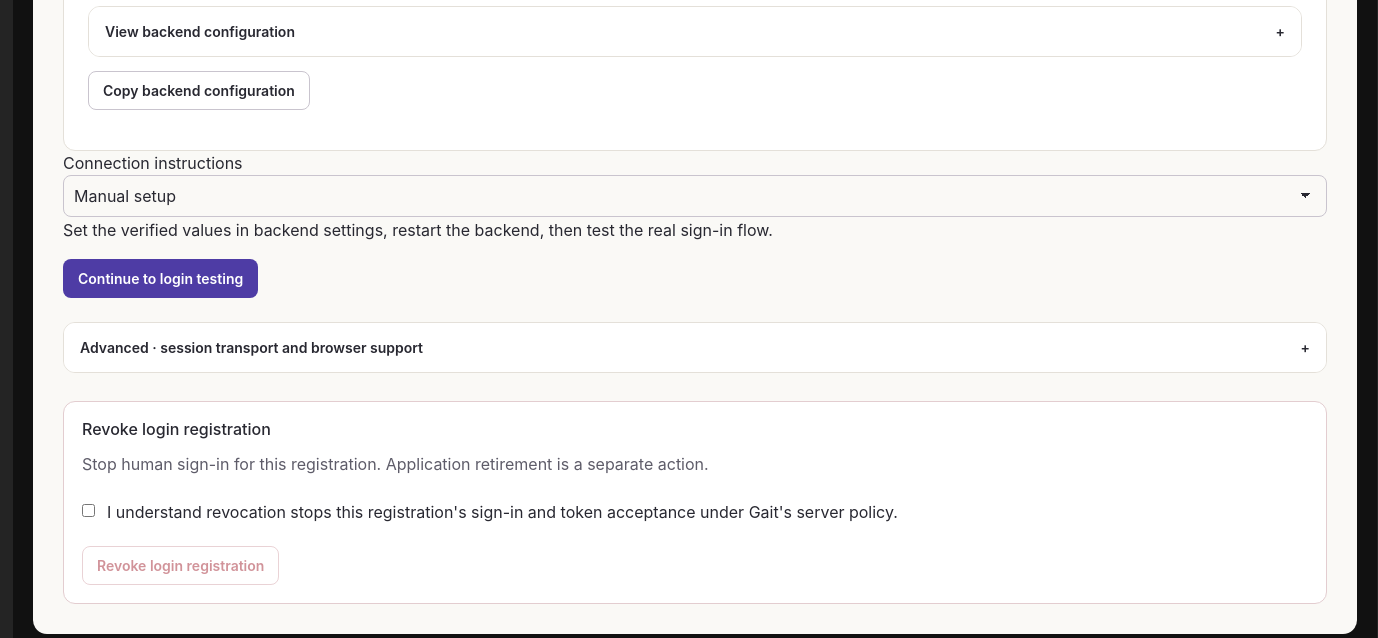
Test: transport denial preserves saved authority and explains fresh MFA
(page scrolled)
Click the button "Advanced · session transport and browser support".
click(252, 348)  # box [64,323,1326,372]
(page scrolled)
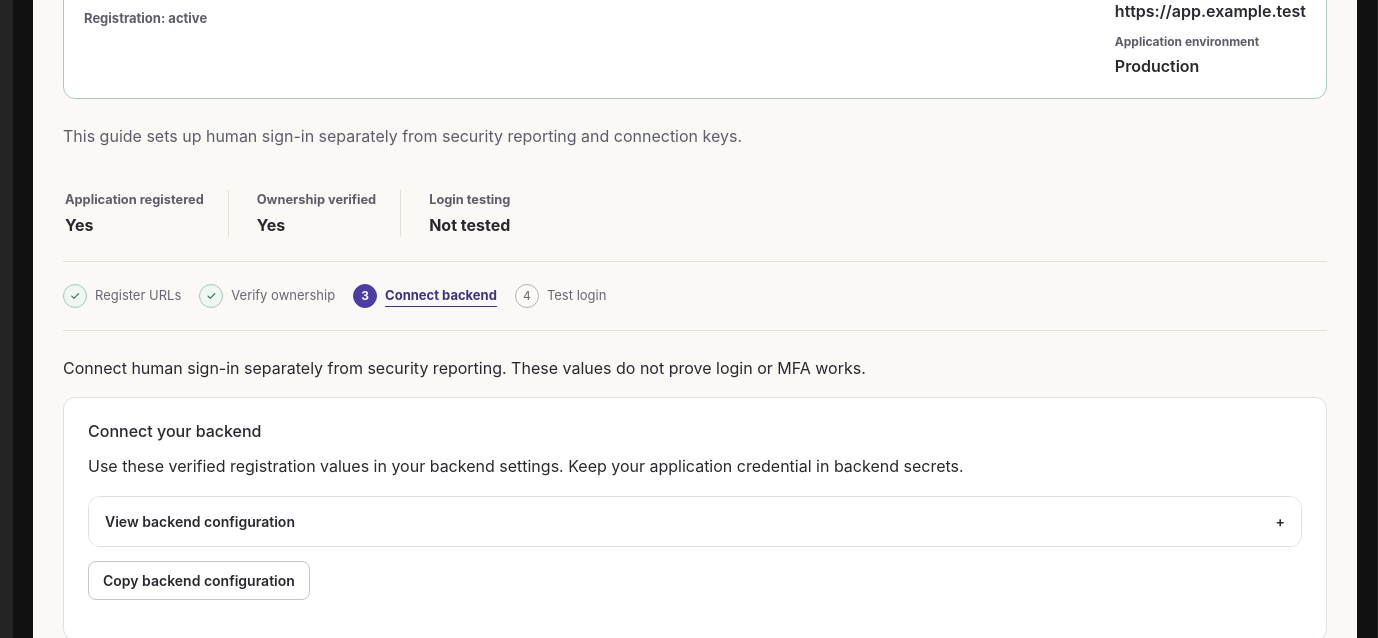
Click the button with aria-label "1. Register URLs".
click(122, 296)  # box [63,276,181,316]
(page scrolled)
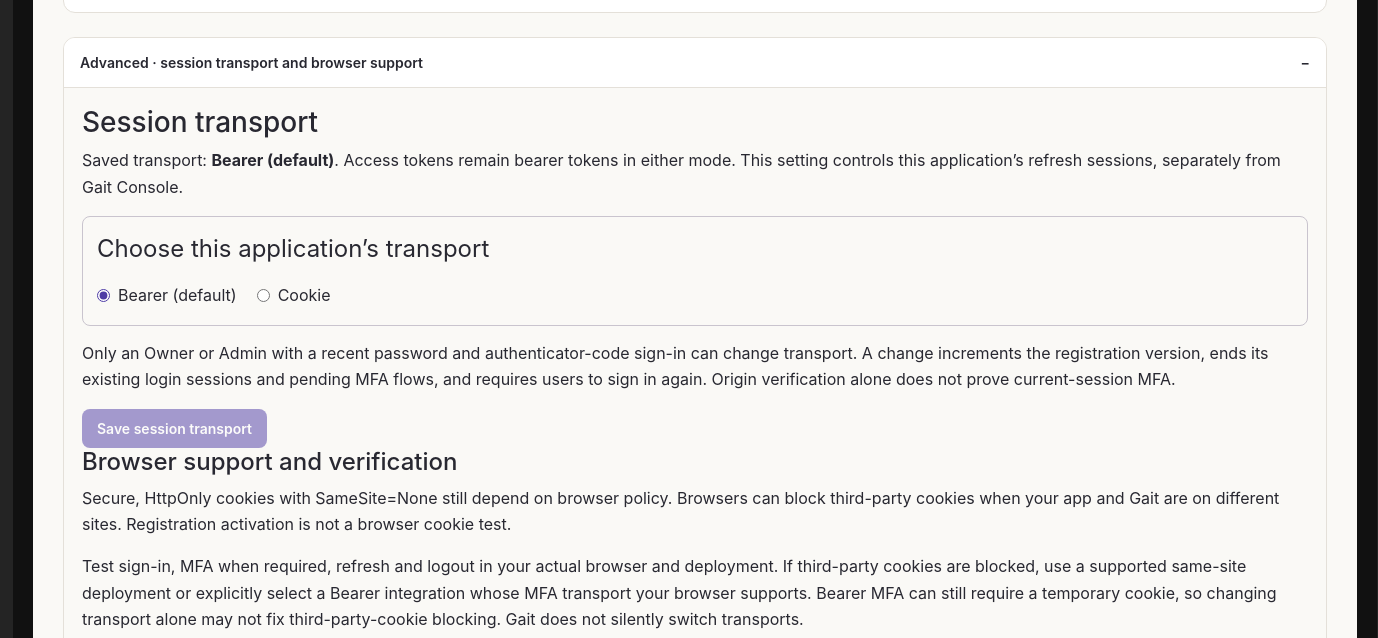
Click the radio button labelled "Cookie".
click(263, 295)  # box [257,289,270,302]
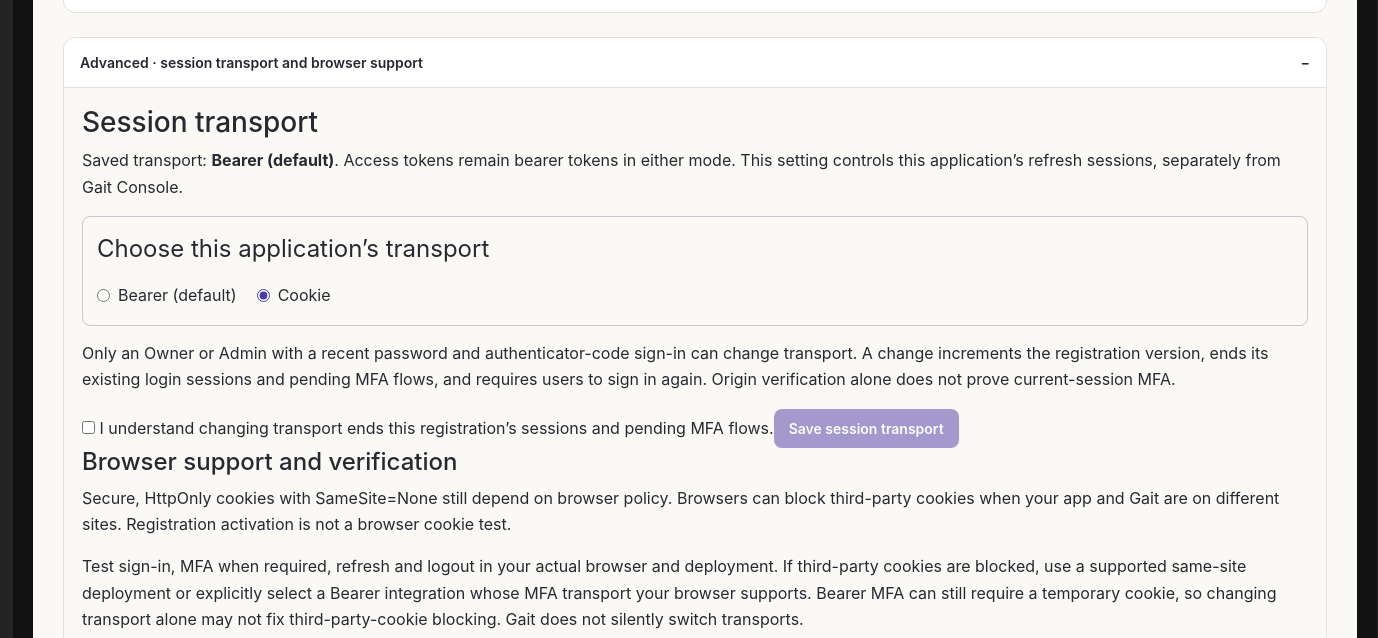
Click the checkbox labelled "changing transport ends".
click(88, 427)  # box [82,421,95,434]
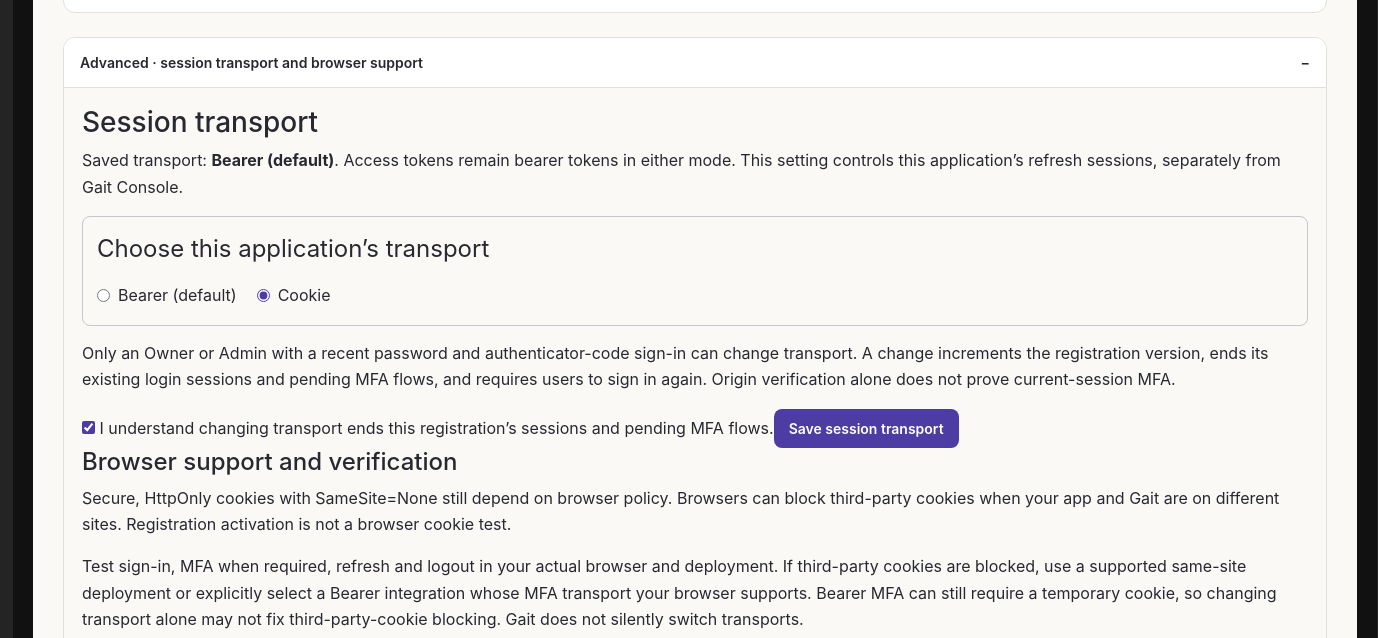
Click the button "Save session transport".
click(866, 428)  # box [774,409,959,448]
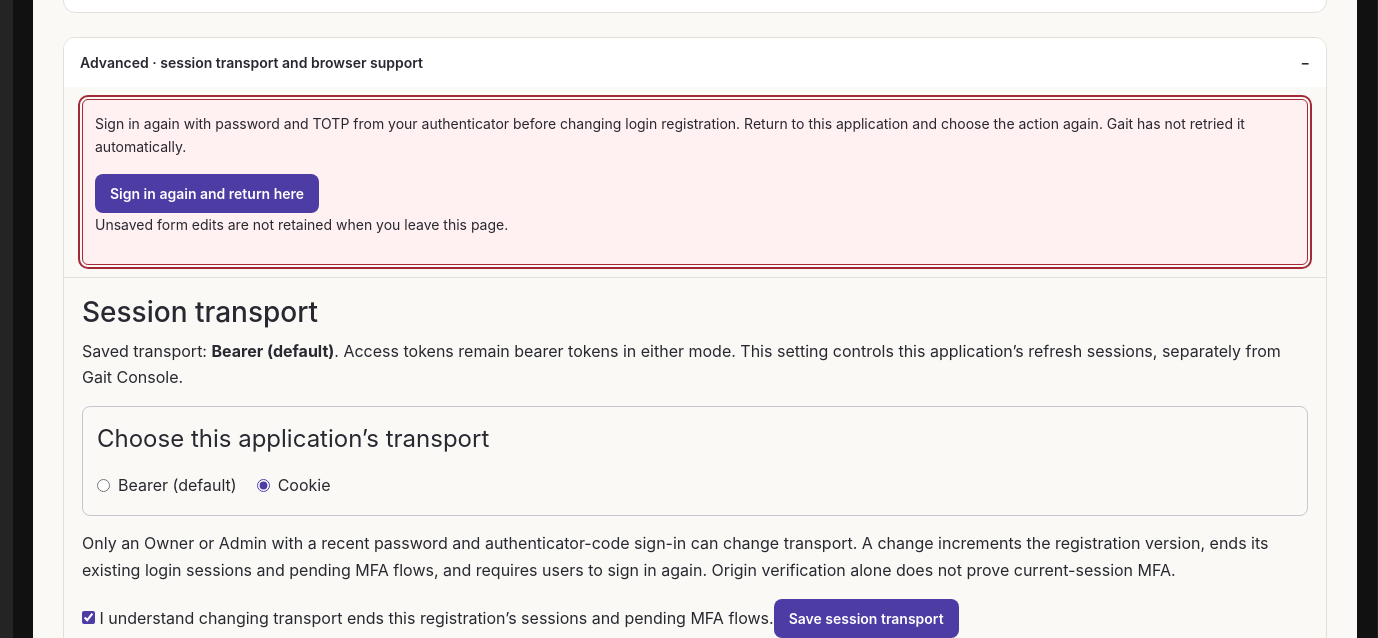
Result: the text "Saved transport:" shows "Bearer (default)" at [212,341,334,361]
Result: the text "Sign in again with password and TOTP" is shown at [95,115,1245,155]
